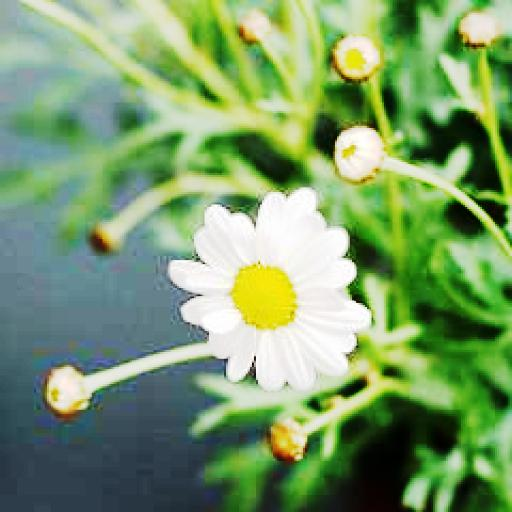daisy: (196, 207, 354, 375), (337, 128, 380, 175), (51, 367, 83, 412), (339, 38, 376, 75), (273, 420, 301, 459)
